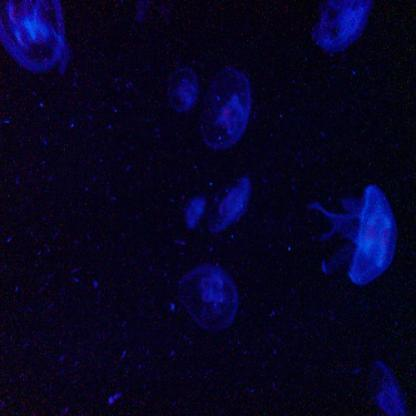Speckle: (307, 187, 399, 289), (2, 4, 72, 72), (175, 265, 241, 334), (199, 68, 250, 146), (311, 3, 369, 56), (365, 358, 408, 414), (212, 178, 252, 232), (165, 68, 200, 113)
